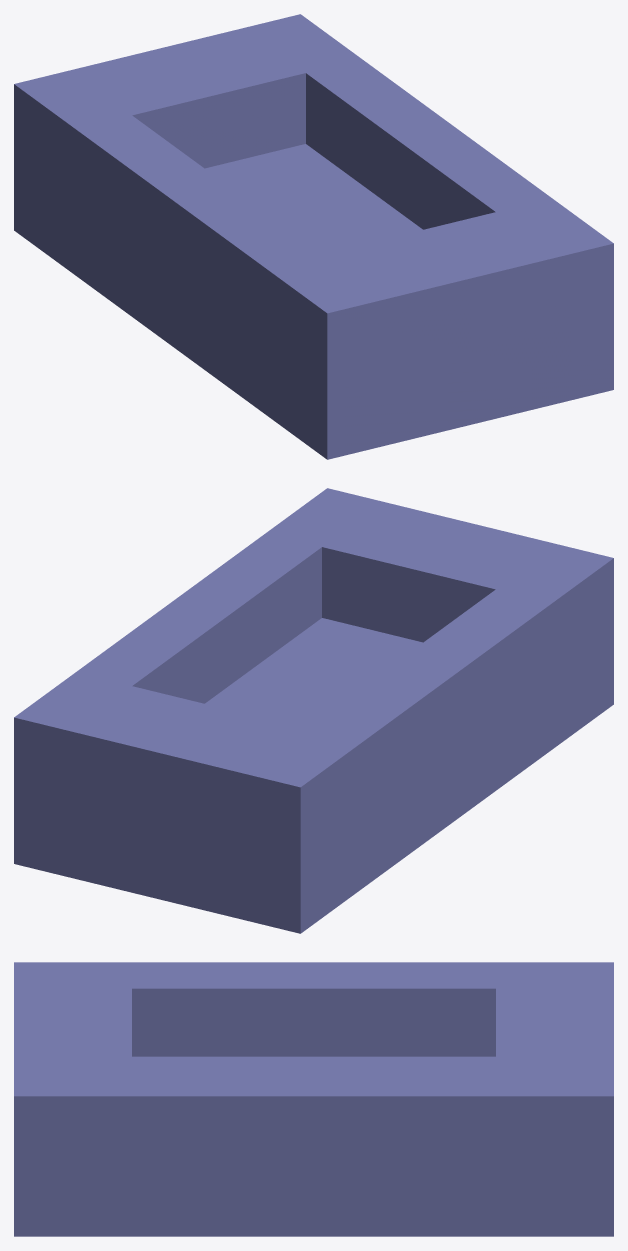
File: test_gltf.glb
3 renders of one model, top to bottom at view 1: azimuth 30°, elevation 25°; view 2: azimuth 150°, elevation 25°; view 3: azimuth 270°, elevation 25°, orthographic. The views are drawn at different scales.
Size of the model in its own units: 2.05 by 1 by 3.88.
